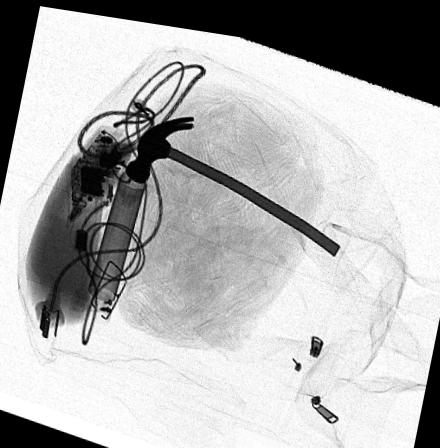Hammer: (125, 110, 341, 247)
